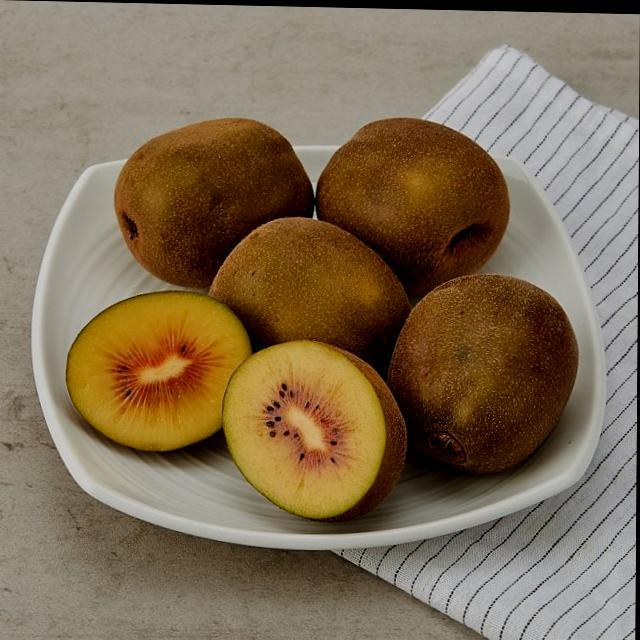kiwi: (384, 268, 581, 477), (111, 114, 316, 291), (315, 112, 512, 294), (207, 215, 413, 372)
